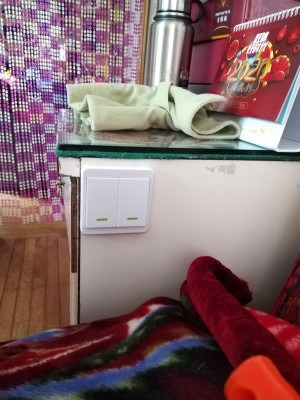switch: (88, 176, 114, 227), (120, 181, 147, 227)
